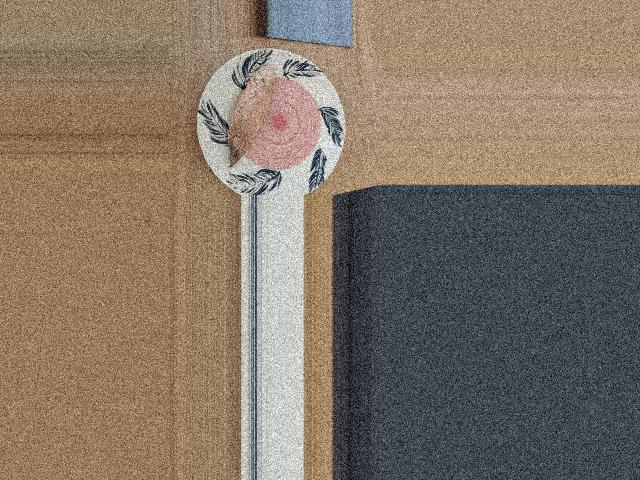sweet_potato: (227, 71, 278, 157)
